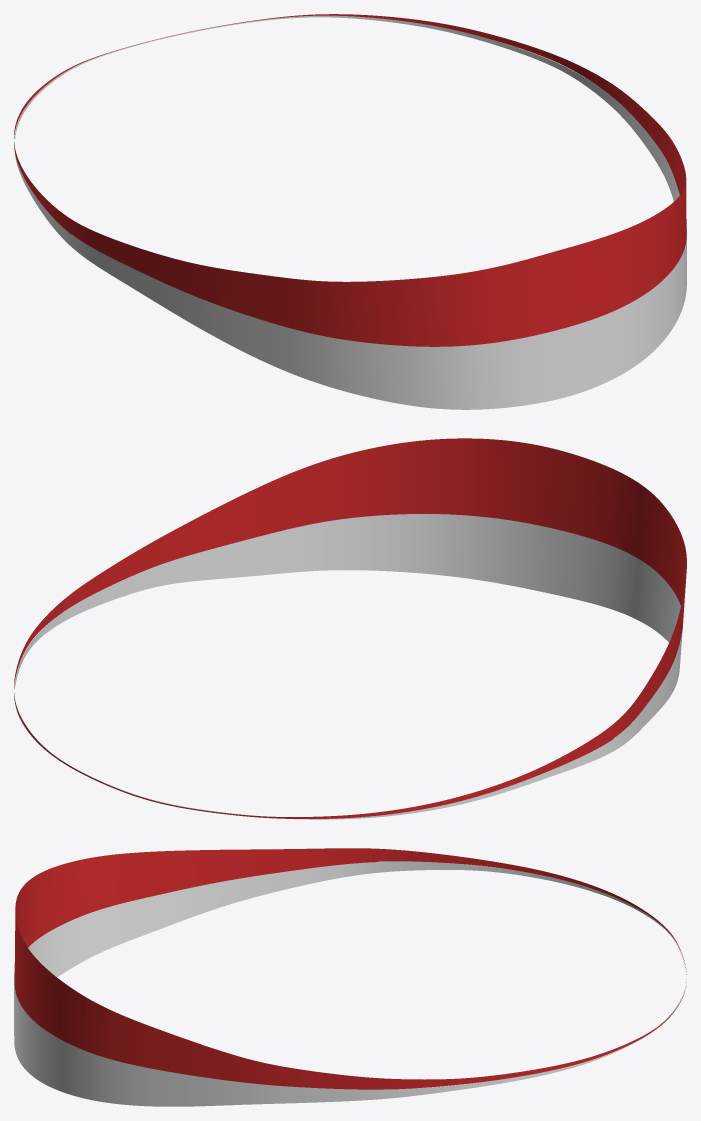
The model's file is Kemerdekaan.fbx.
3 renders of one model, top to bottom at view 1: azimuth 30°, elevation 25°; view 2: azimuth 150°, elevation 25°; view 3: azimuth 270°, elevation 25°, orthographic. The views are drawn at different scales.
Visible parts, largest first — view 1: Cylinder.002, Cylinder.003; view 2: Cylinder.002, Cylinder.003; view 3: Cylinder.002, Cylinder.003.
Part boxes in pixels (<box>): Cylinder.002: <box>14,14,686,346</box>; Cylinder.003: <box>14,15,686,409</box>; Cylinder.002: <box>14,438,686,818</box>; Cylinder.003: <box>14,514,683,819</box>; Cylinder.002: <box>14,848,686,1089</box>; Cylinder.003: <box>14,861,686,1106</box>.
Size of the model in its own units: 1.58 by 0.4081 by 1.96.
